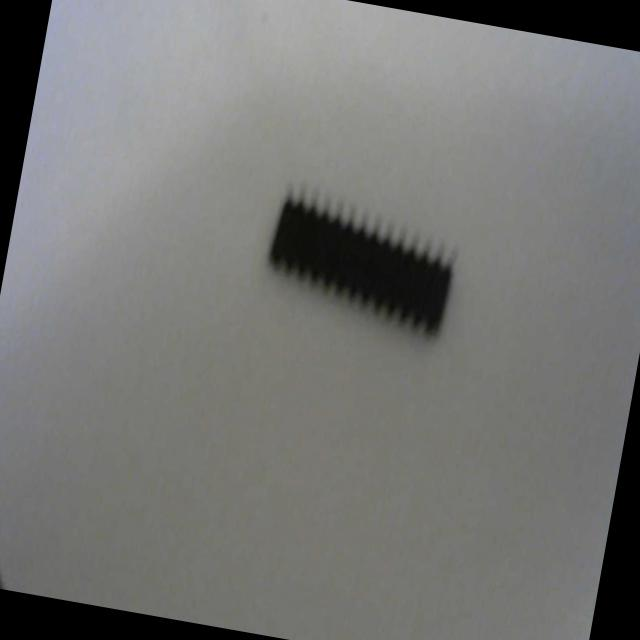atmega: (255, 173, 468, 344)
